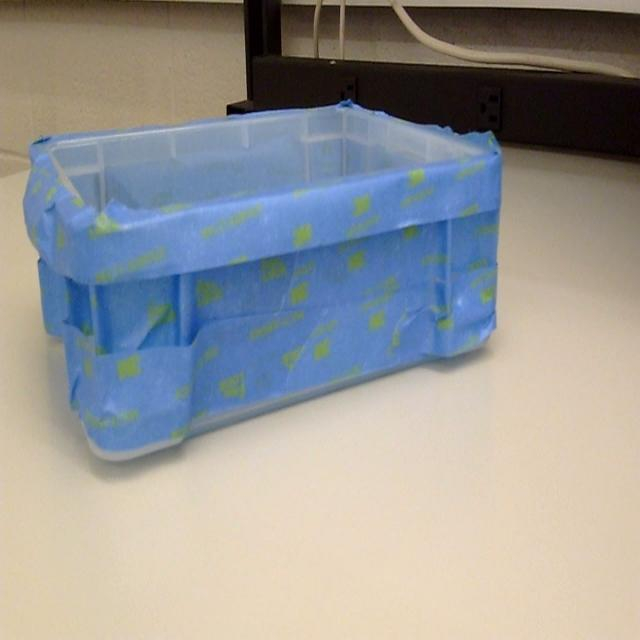bucket: (22, 101, 504, 465)
